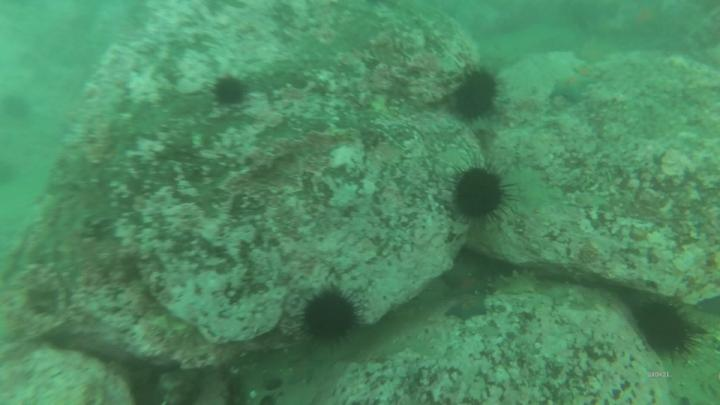echinus: (639, 304, 688, 353), (457, 169, 502, 216), (455, 70, 495, 118), (306, 297, 352, 337), (215, 81, 245, 105)
starfish: (549, 73, 596, 100), (448, 268, 489, 295), (448, 298, 485, 321)
